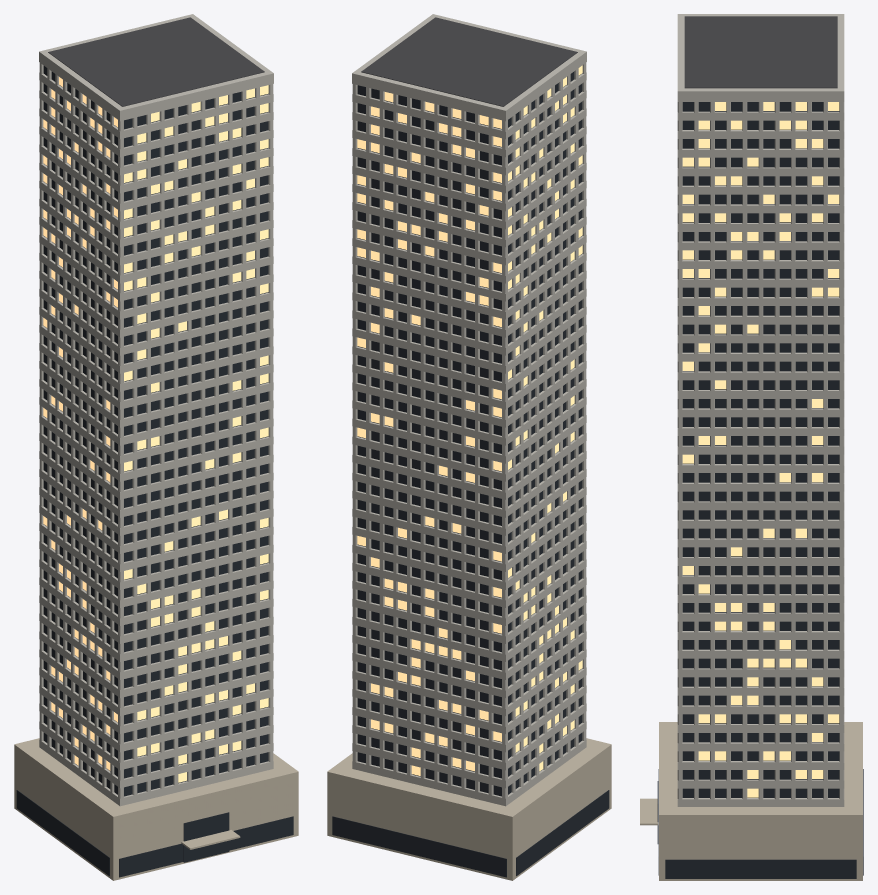
The model's file is t_grid_grey_38.glb.
3 views of the same model, side by side, from view 1: azimuth 30°, elevation 25°; view 2: azimuth 150°, elevation 25°; view 3: azimuth 270°, elevation 25° (orthographic). The views are drawn at different scales.
Visible parts, largest first — view 1: t_grid_grey_38; view 2: t_grid_grey_38; view 3: t_grid_grey_38.
Boxes of the visible parts, x1=… form: t_grid_grey_38: x1=14, y1=14, x2=298, y2=880; t_grid_grey_38: x1=327, y1=14, x2=611, y2=880; t_grid_grey_38: x1=640, y1=14, x2=863, y2=880.
Bounding box in the file's own units: 41.18 × 160 × 41.54.
